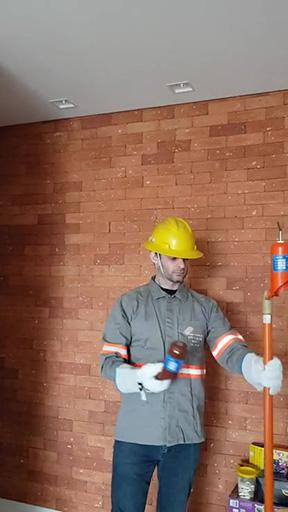Detector_Tensao_Contato: (269, 220, 288, 301)
Vara_Manobra: (258, 291, 278, 512)
